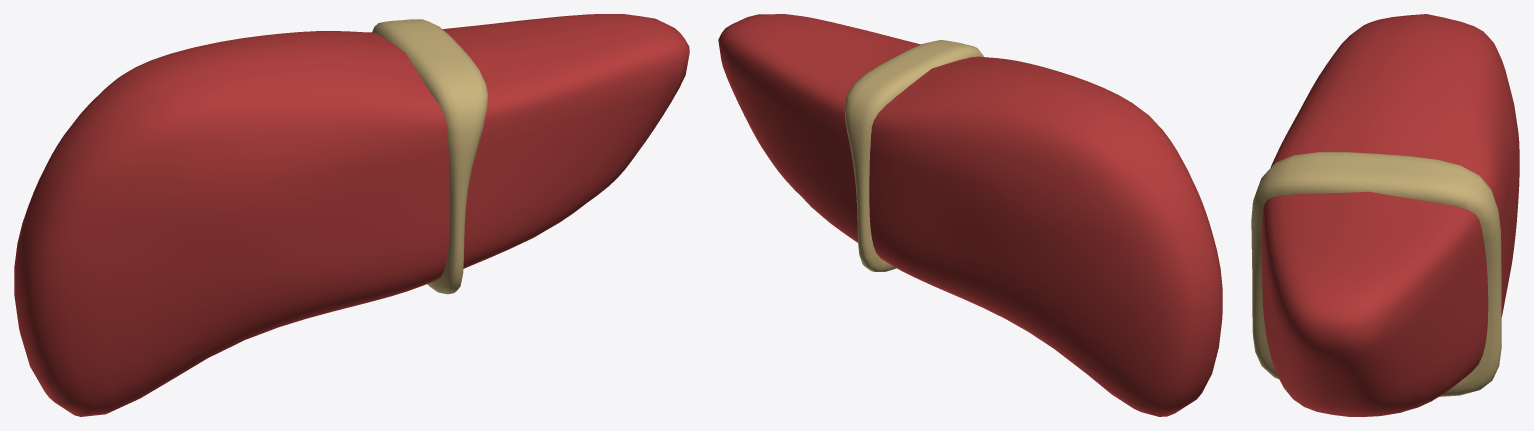
The model's file is Higado.fbx.
3 renders of one model, left to right at view 1: azimuth 30°, elevation 25°; view 2: azimuth 150°, elevation 25°; view 3: azimuth 270°, elevation 25°, orthographic. The views are drawn at different scales.
Visible parts, largest first — view 1: Cubo.001; view 2: Cubo.001; view 3: Cubo.001.
Part boxes in pixels (x1=…): Cubo.001: x1=14, y1=14, x2=689, y2=416; Cubo.001: x1=718, y1=14, x2=1222, y2=416; Cubo.001: x1=1251, y1=14, x2=1519, y2=416.
Bounding box in the file's own units: 65.07 × 33.42 × 22.77.
